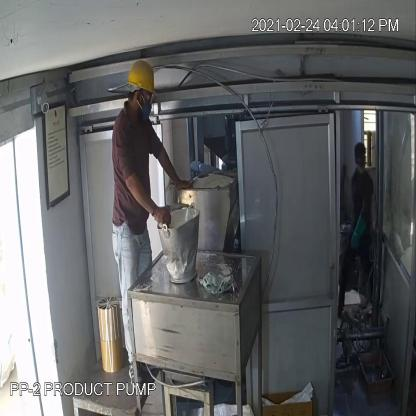helmet: (124, 53, 162, 100)
